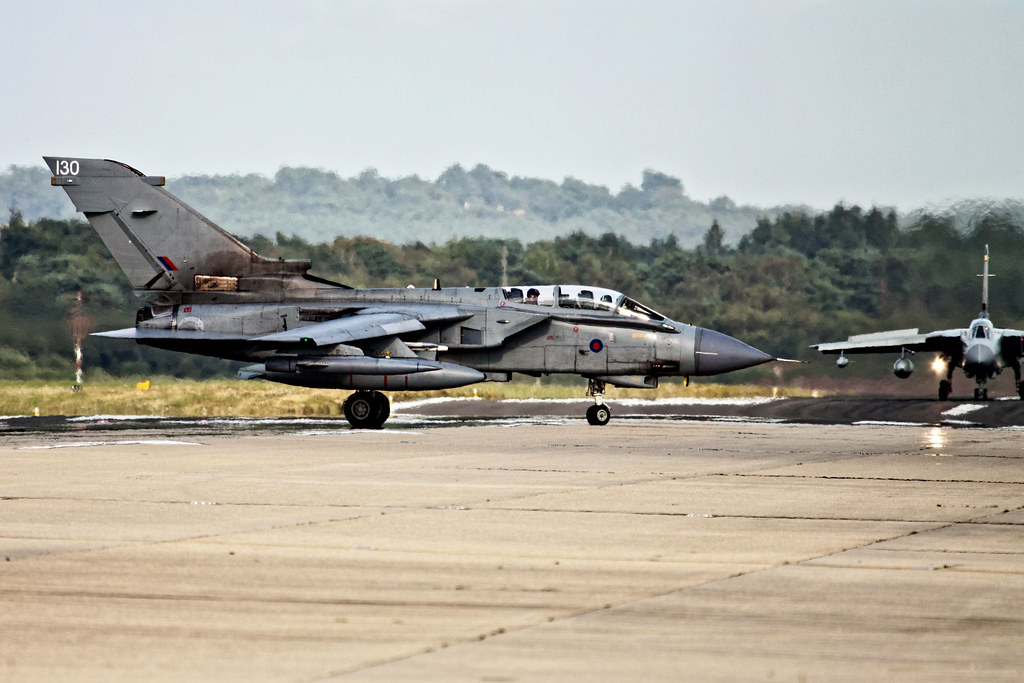Tornado: (41, 156, 812, 428), (808, 244, 1024, 401)
